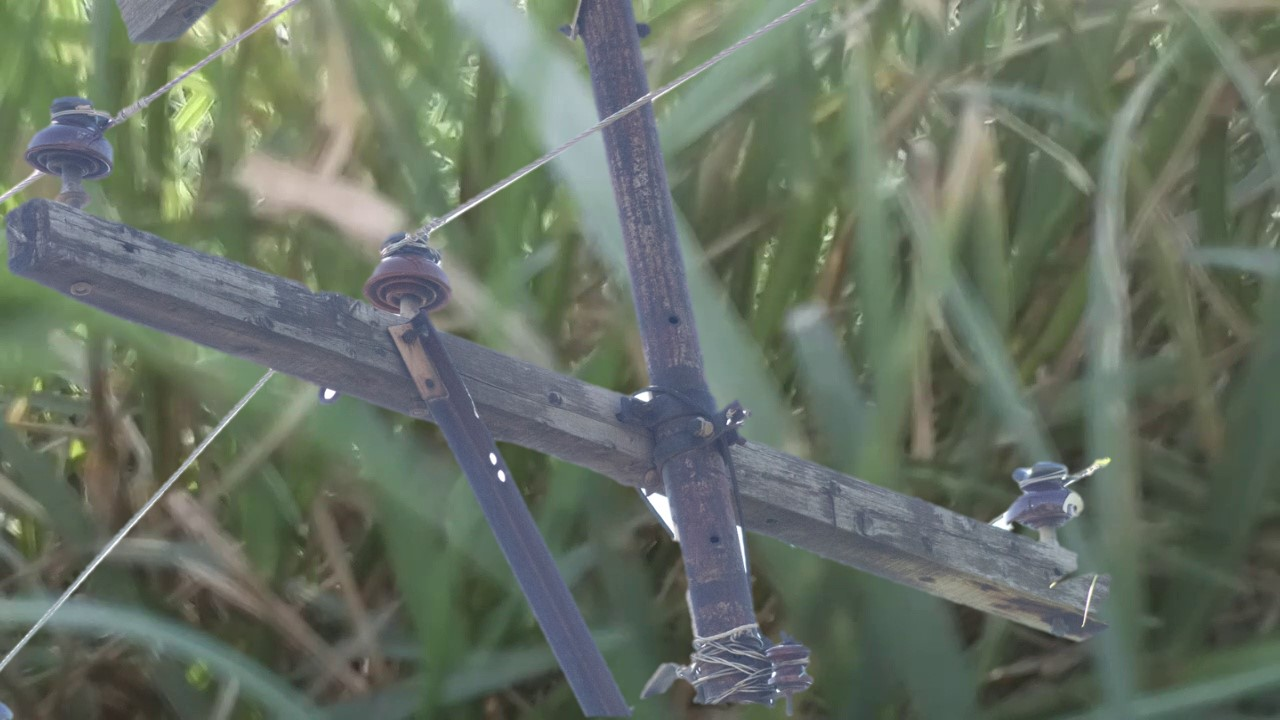defect_pin: (1003, 451, 1091, 530)
insulator_pin: (358, 226, 455, 316), (24, 95, 118, 186)
